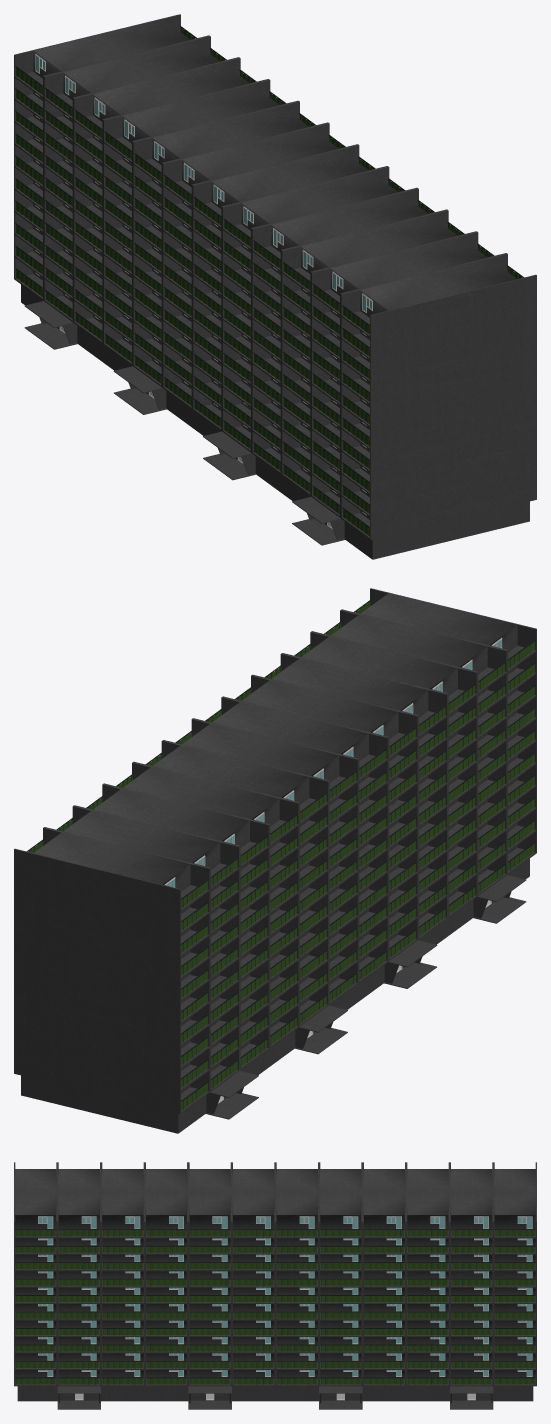
The model's file is Blok.fbx.
3 renders of one model, top to bottom at view 1: azimuth 30°, elevation 25°; view 2: azimuth 150°, elevation 25°; view 3: azimuth 270°, elevation 25°, orthographic. The views are drawn at different scales.
Parts seen in each view (by area): view 1: Cube.001, Plane, Cube.003, Cube.004, Cube.002; view 2: Cube.001, Plane, Cube.003, Cube.004, Cube.002; view 3: Cube.001, Plane, Cube.002, Cube.003, Cube.004.
Part boxes in pixels (box(x1,y1,x2,y2)): Cube.001: box(14, 14, 536, 540); Plane: box(16, 27, 522, 536); Cube.003: box(21, 284, 529, 559); Cube.004: box(15, 25, 523, 535); Cube.002: box(35, 54, 372, 515); Cube.001: box(14, 588, 536, 1114); Plane: box(28, 601, 534, 1110); Cube.003: box(21, 858, 529, 1133); Cube.004: box(27, 599, 535, 1109); Cube.002: box(164, 638, 502, 887); Cube.001: box(14, 1162, 536, 1386); Plane: box(15, 1230, 535, 1384); Cube.002: box(38, 1216, 532, 1376); Cube.003: box(17, 1386, 533, 1409); Cube.004: box(15, 1229, 535, 1384).
Bounding box in the file's own units: 2860 × 3300 × 8640.
